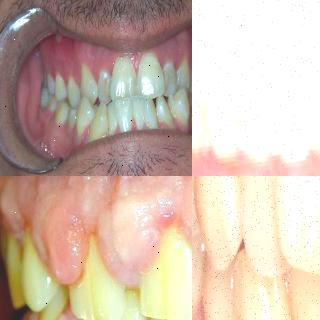Gum Swelling: (6, 176, 192, 258)
maligned: (234, 176, 284, 266), (109, 58, 137, 100), (137, 55, 162, 96), (158, 58, 184, 94), (88, 104, 108, 142), (77, 65, 99, 99), (170, 92, 192, 125), (115, 96, 135, 130), (143, 94, 159, 136), (94, 70, 112, 102), (131, 95, 145, 133), (78, 96, 92, 133), (190, 67, 192, 89)
